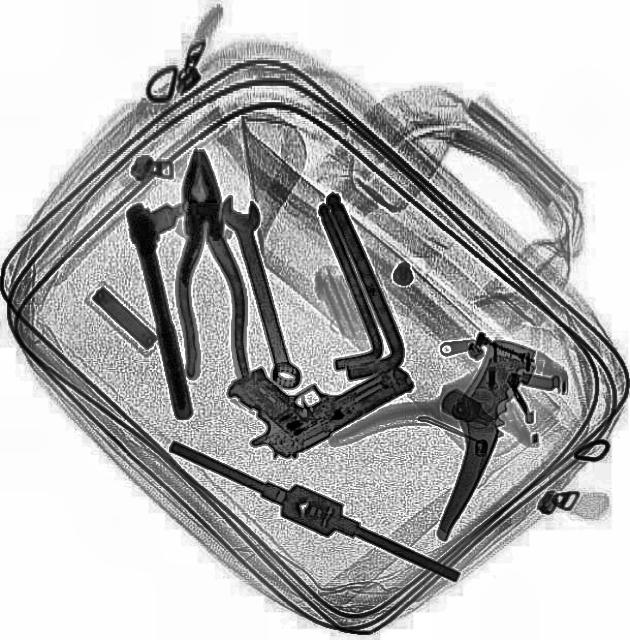Gun: (214, 306, 418, 472)
Pliers: (162, 145, 256, 381)
Wrench: (215, 188, 307, 390)
